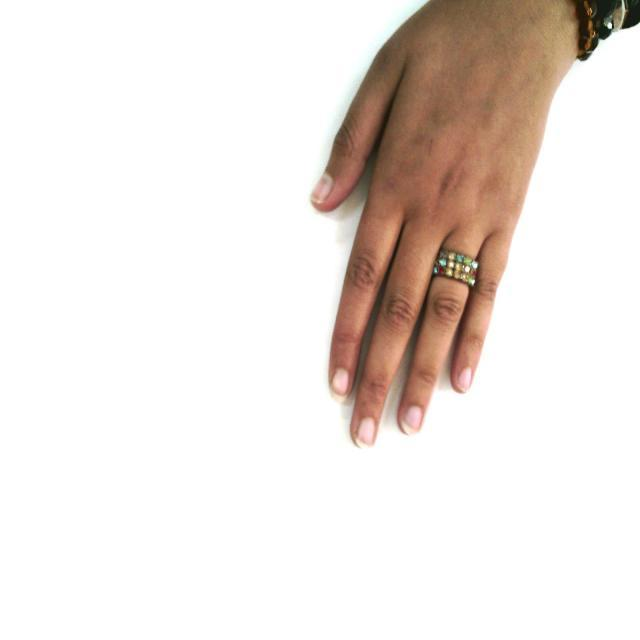Fingernail: (356, 417, 377, 448), (401, 405, 422, 436), (331, 368, 350, 402), (311, 176, 332, 203), (457, 368, 471, 391)
